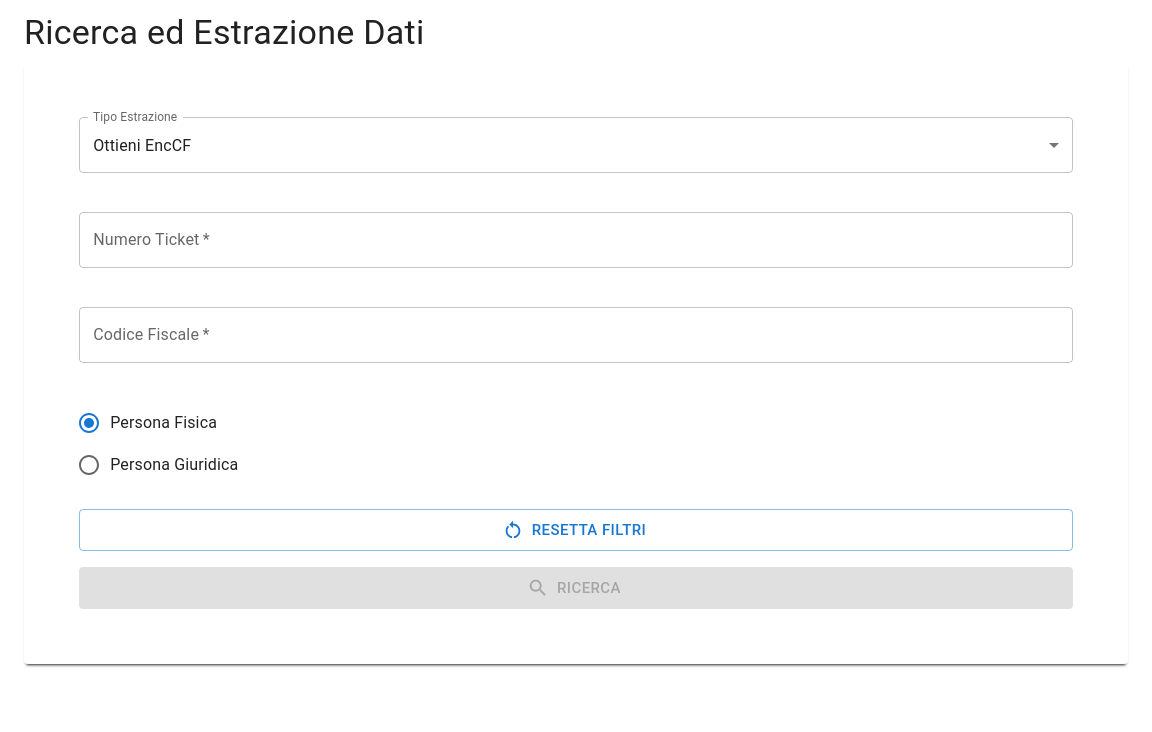
SearchForm › change Tipo estrazione
Click the dropdown. click: click(142, 145)
box: x1=93 y1=136 x2=191 y2=155
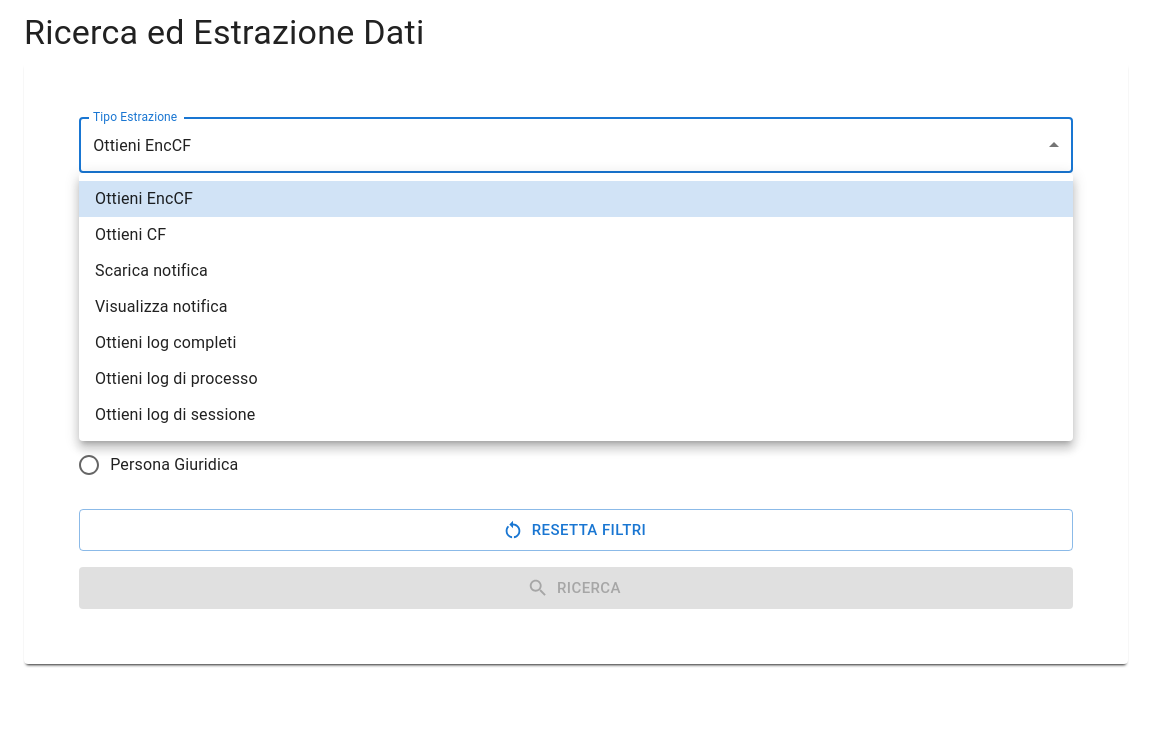
Expected: the option "Ottieni log completi" is shown
Click the option "Ottieni log completi". click: click(166, 342)
box: x1=95 y1=333 x2=236 y2=352
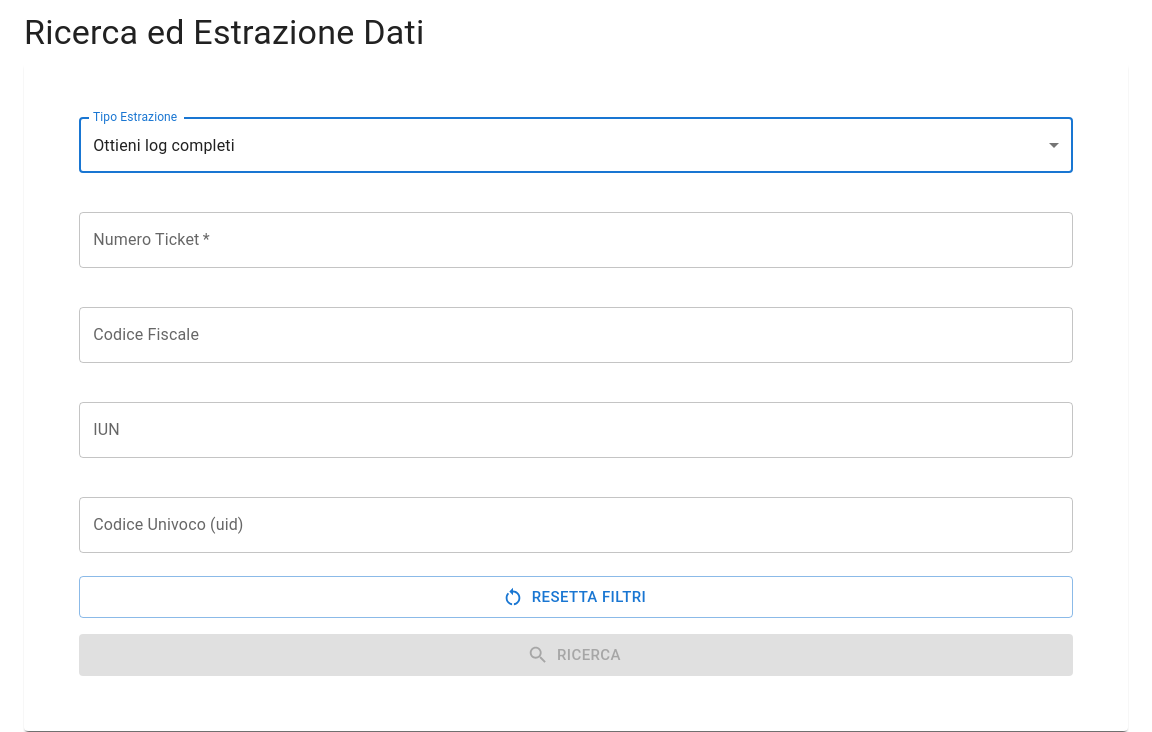
Expected: the dropdown reads "Ottieni log completi", x1=93 y1=136 x2=235 y2=155
